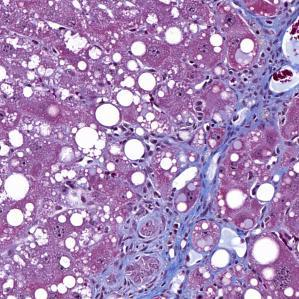fibrosis: (134, 189, 220, 275), (240, 21, 293, 127)
